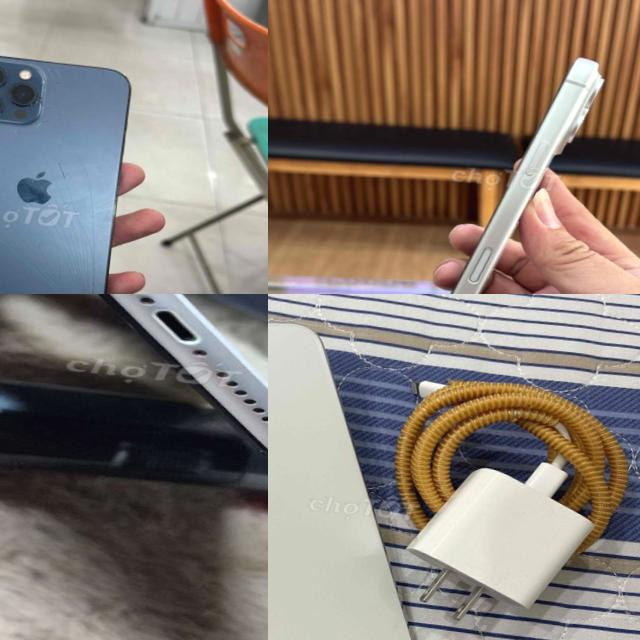gen_11: (268, 297, 455, 640), (100, 294, 268, 455)
gen_12_13: (0, 42, 141, 294)
gen_17: (415, 30, 625, 294)
